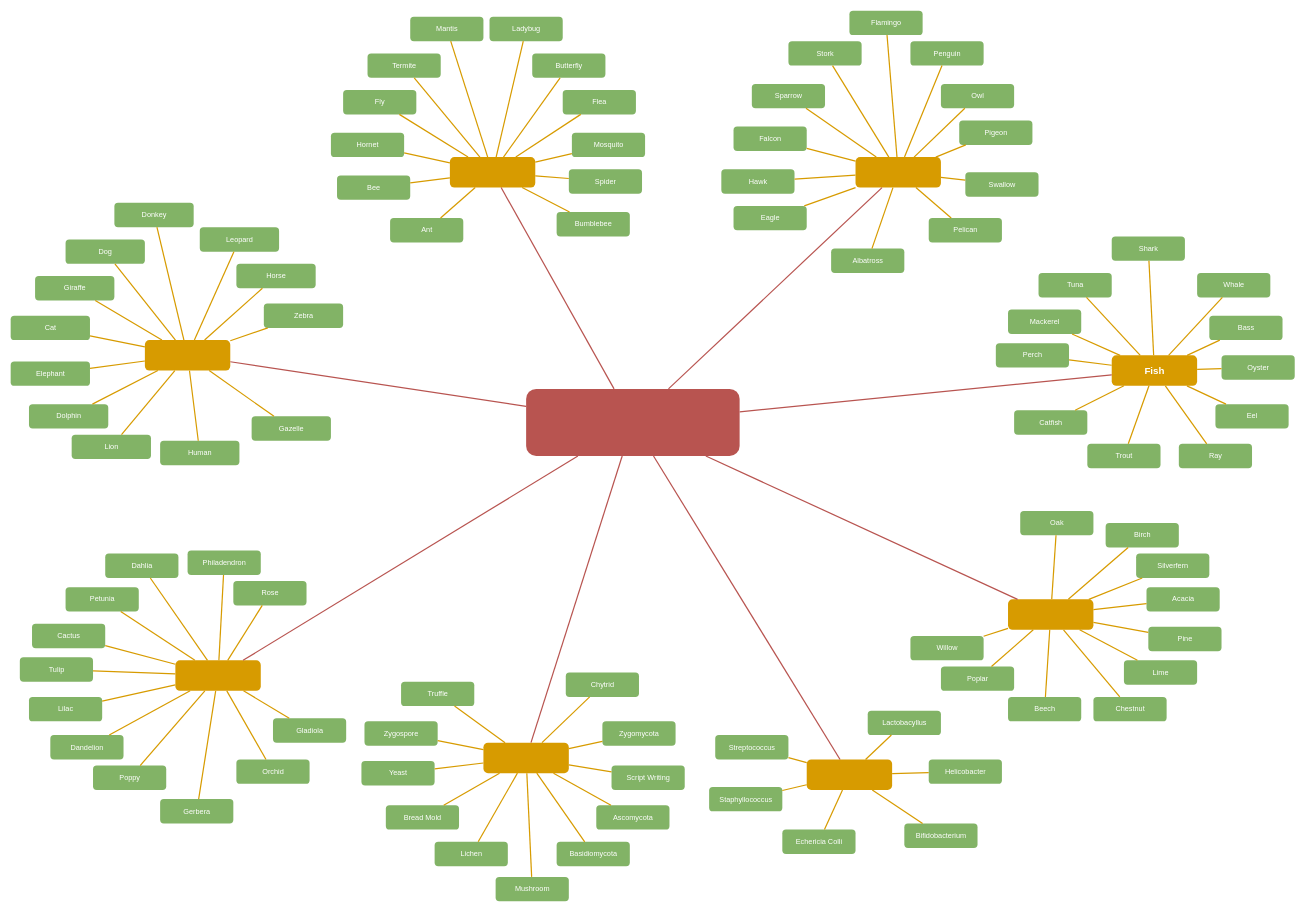
Image size: 1305x911. Some labels were removed from this diagram. The shapes that lost their labels are listed below. From the top down, each one's centre as x and y in pixels, then its label:
the point at 492,172: Insect
the point at 898,172: Bird
the point at 187,355: Mammal
the point at 632,422: Living Beings
the point at 1050,614: Tree
the point at 217,675: Flower
the point at 526,757: Fungi
the point at 849,774: Bacteria
